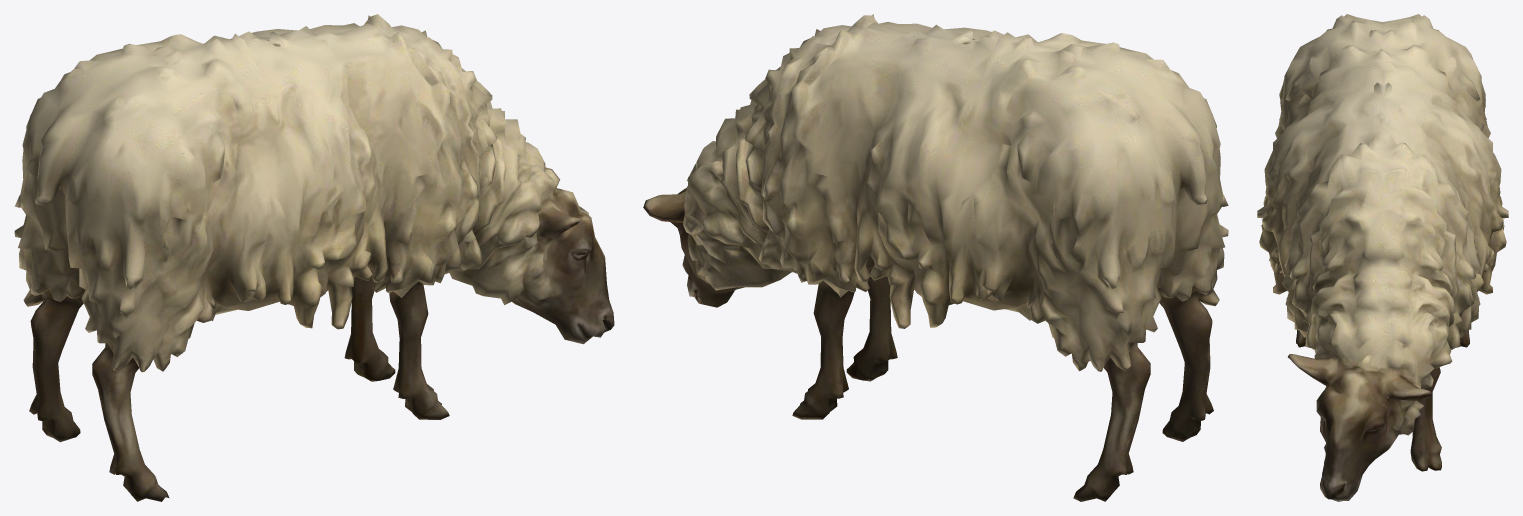
The model's file is kit_ewe_b.glb.
3 renders of one model, left to right at view 1: azimuth 30°, elevation 25°; view 2: azimuth 150°, elevation 25°; view 3: azimuth 270°, elevation 25°, orthographic. The views are drawn at different scales.
Parts seen in each view (by area): view 1: kit_ewe_b; view 2: kit_ewe_b; view 3: kit_ewe_b.
Boxes of the visible parts, box(x1,y1,x2,y2) form: kit_ewe_b: box(14, 14, 614, 501); kit_ewe_b: box(643, 14, 1228, 501); kit_ewe_b: box(1257, 14, 1508, 501).
Size of the model in its own units: 1.2 by 0.8431 by 0.5659.
1 material, 1 textured.
